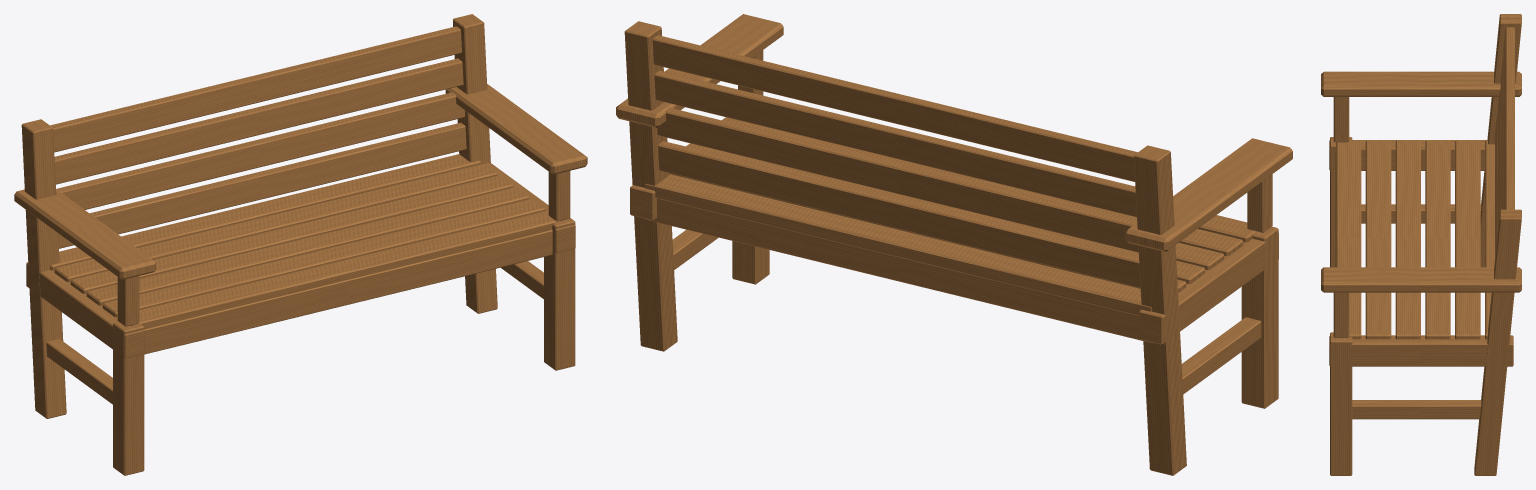
File: teak-bench.glb
3 views of the same model, side by side, from view 1: azimuth 30°, elevation 25°; view 2: azimuth 150°, elevation 25°; view 3: azimuth 270°, elevation 25° (orthographic). The views are drawn at different scales.
Visible parts, largest first — view 1: natural_teak; view 2: natural_teak; view 3: natural_teak.
Part boxes in pixels (x1=…): natural_teak: x1=14, y1=14, x2=587, y2=475; natural_teak: x1=616, y1=14, x2=1292, y2=475; natural_teak: x1=1321, y1=14, x2=1521, y2=475.
Bounding box in the file's own units: 1.5 × 0.85 × 0.6.
2 materials, 1 textured.
